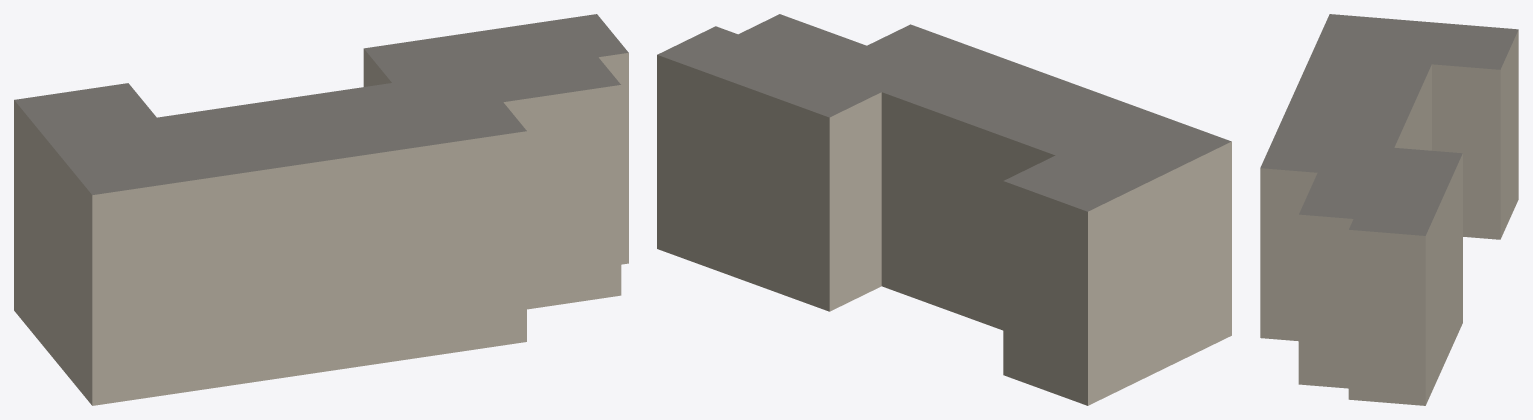
The picture shows the model from 3 angles, left to right: view 1: azimuth 30°, elevation 25°; view 2: azimuth 150°, elevation 25°; view 3: azimuth 270°, elevation 25°; orthographic projection. The views are drawn at different scales.
Parts seen in each view (by area): view 1: HP-w1435559500; view 2: HP-w1435559500; view 3: HP-w1435559500.
Part boxes in pixels (left/top/right/bottom): HP-w1435559500: left=14, top=14, right=628, bottom=405; HP-w1435559500: left=657, top=14, right=1231, bottom=405; HP-w1435559500: left=1260, top=14, right=1518, bottom=405.
Bounding box in the file's own units: 50.42 × 18 × 24.81.
